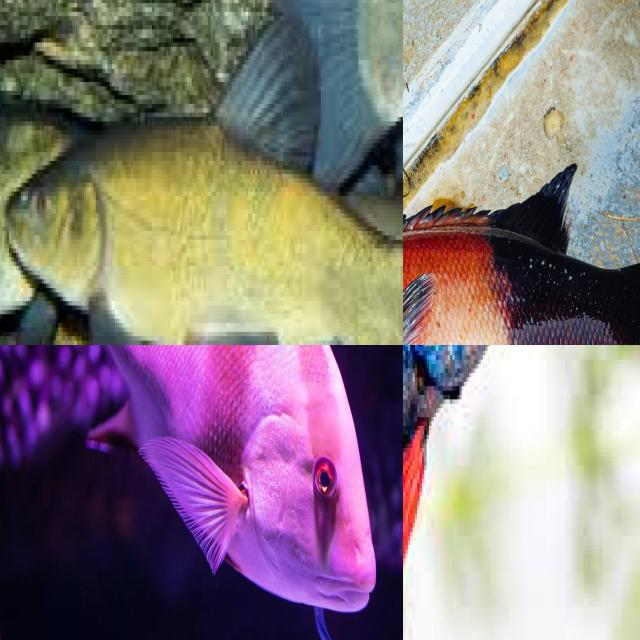fish: (0, 0, 403, 345), (403, 457, 516, 640), (257, 345, 403, 467)
